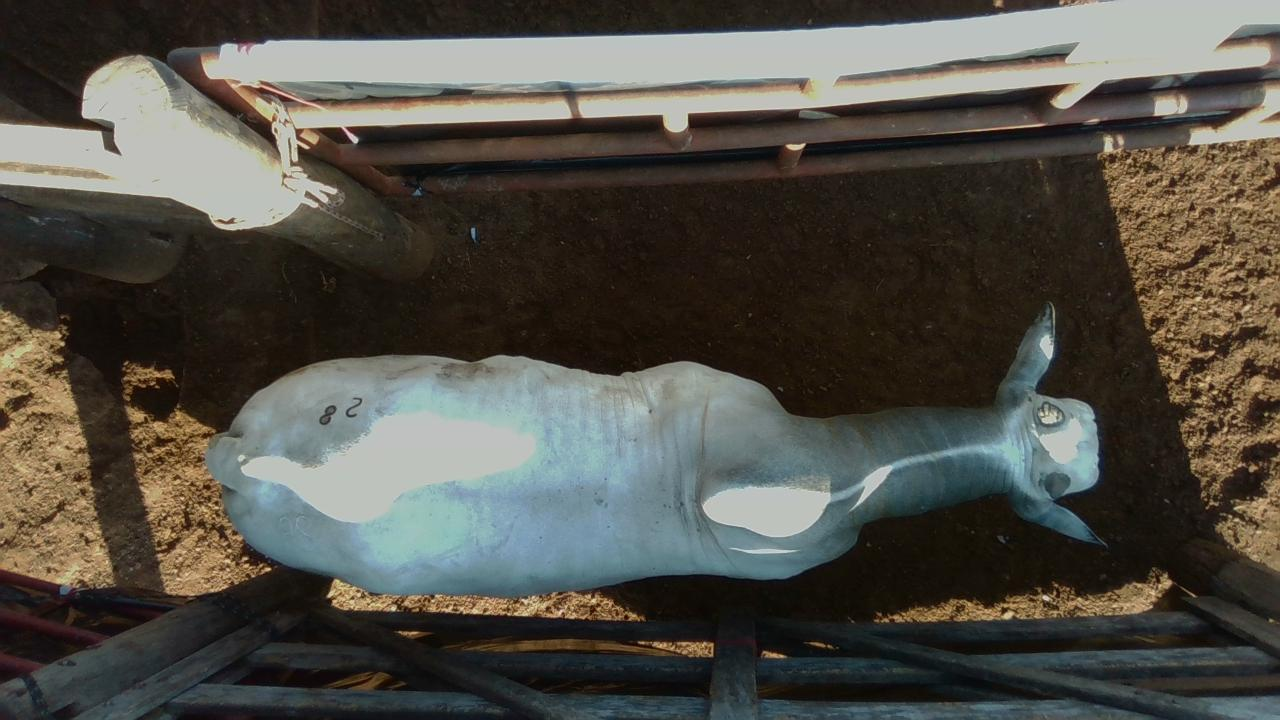cattle: (204, 300, 1109, 598)
